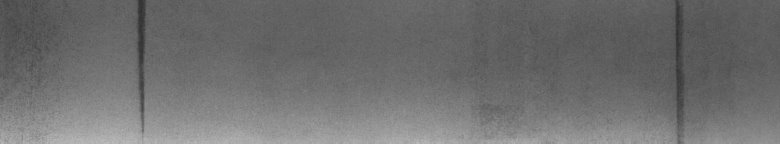hd: (126, 4, 152, 133)
